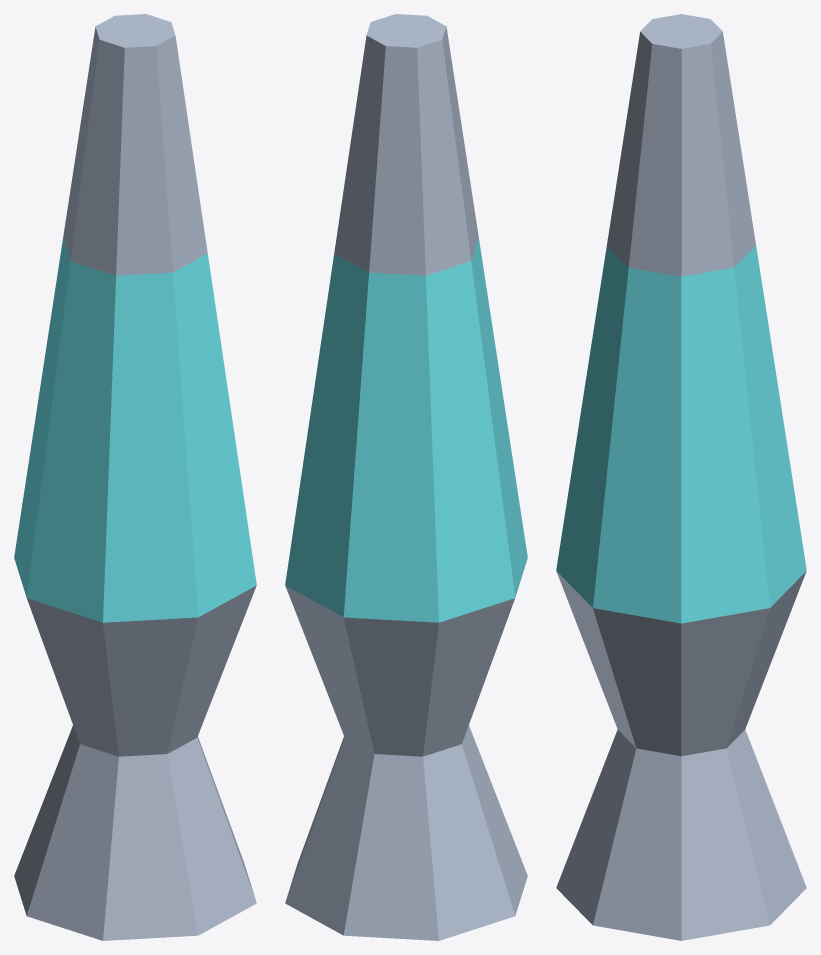
File: Lamp_02.fbx
The picture shows the model from 3 angles, left to right: view 1: azimuth 30°, elevation 25°; view 2: azimuth 150°, elevation 25°; view 3: azimuth 270°, elevation 25°; orthographic projection.
Visible parts, largest first — view 1: Circle; view 2: Circle; view 3: Circle.
Part boxes in pixels (x1,y1,x2,y2): Circle: (14, 14, 256, 940); Circle: (285, 14, 527, 940); Circle: (556, 14, 806, 940).
Bounding box in the file's own units: 0.2959 × 0.2959 × 1.12.
